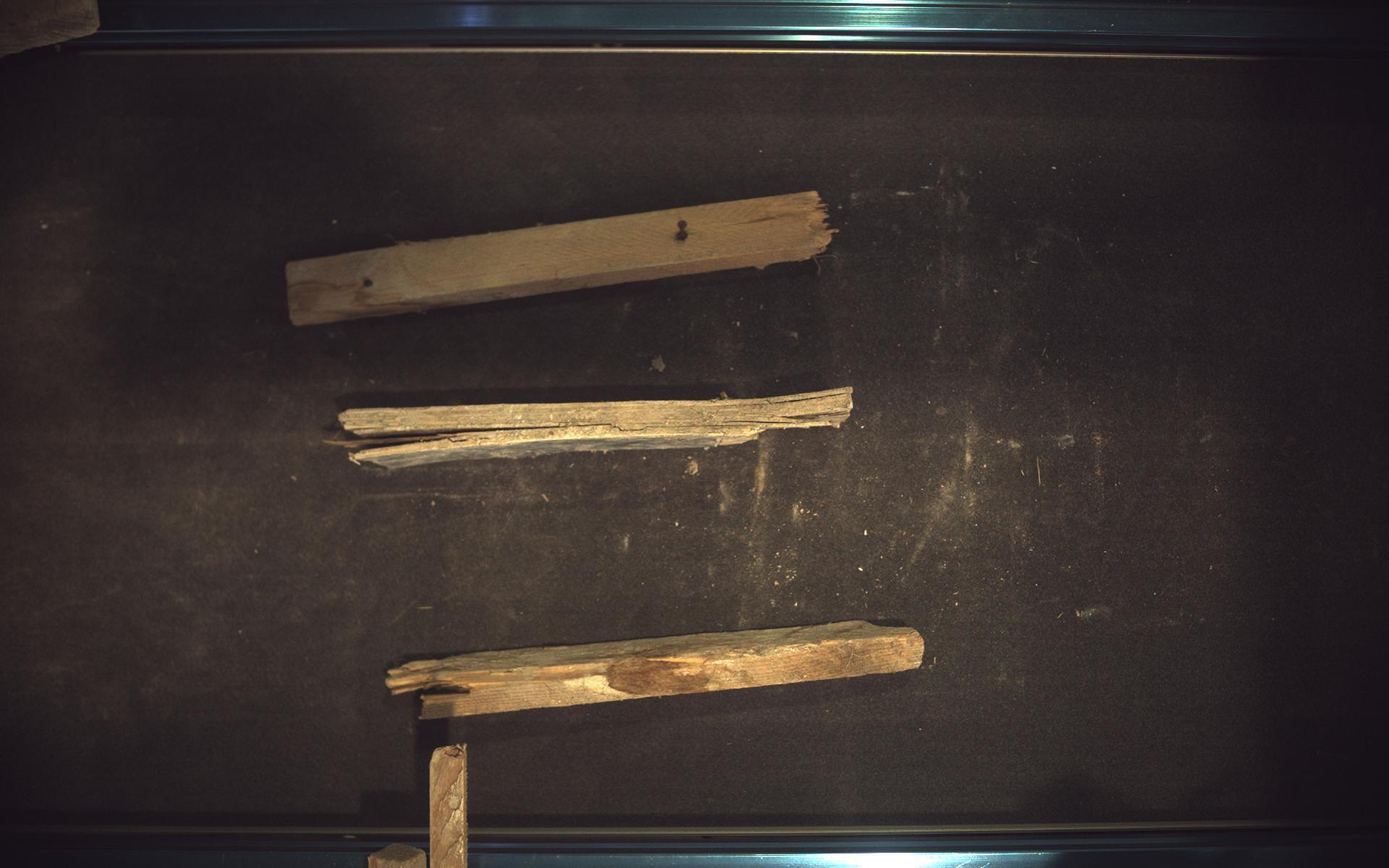wood: (286, 190, 834, 326), (386, 621, 926, 720), (339, 387, 854, 469)
